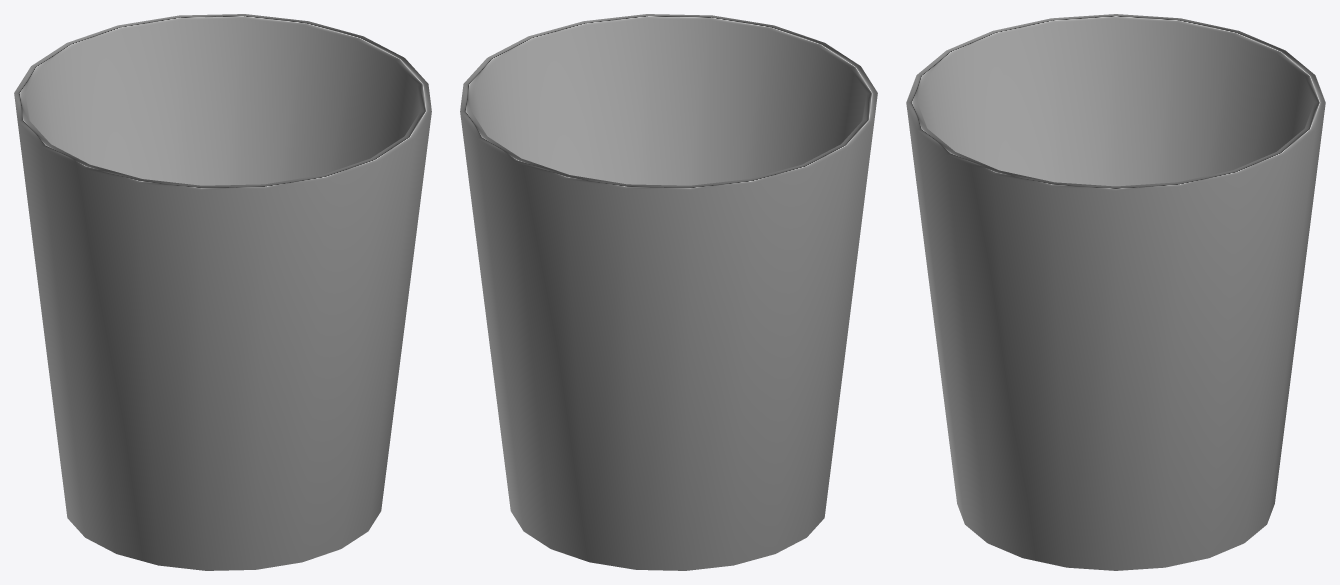
Rendered from Straw_Holder_MDL.fbx.
3 renders of one model, left to right at view 1: azimuth 30°, elevation 25°; view 2: azimuth 150°, elevation 25°; view 3: azimuth 270°, elevation 25°, orthographic.
Parts seen in each view (by area): view 1: straw_holder; view 2: straw_holder; view 3: straw_holder.
Part boxes in pixels (x1,y1,x2,y2): straw_holder: (14, 14, 431, 570); straw_holder: (460, 14, 877, 570); straw_holder: (906, 14, 1325, 570).
Size of the model in its own units: 9.39 by 9.91 by 9.39.
